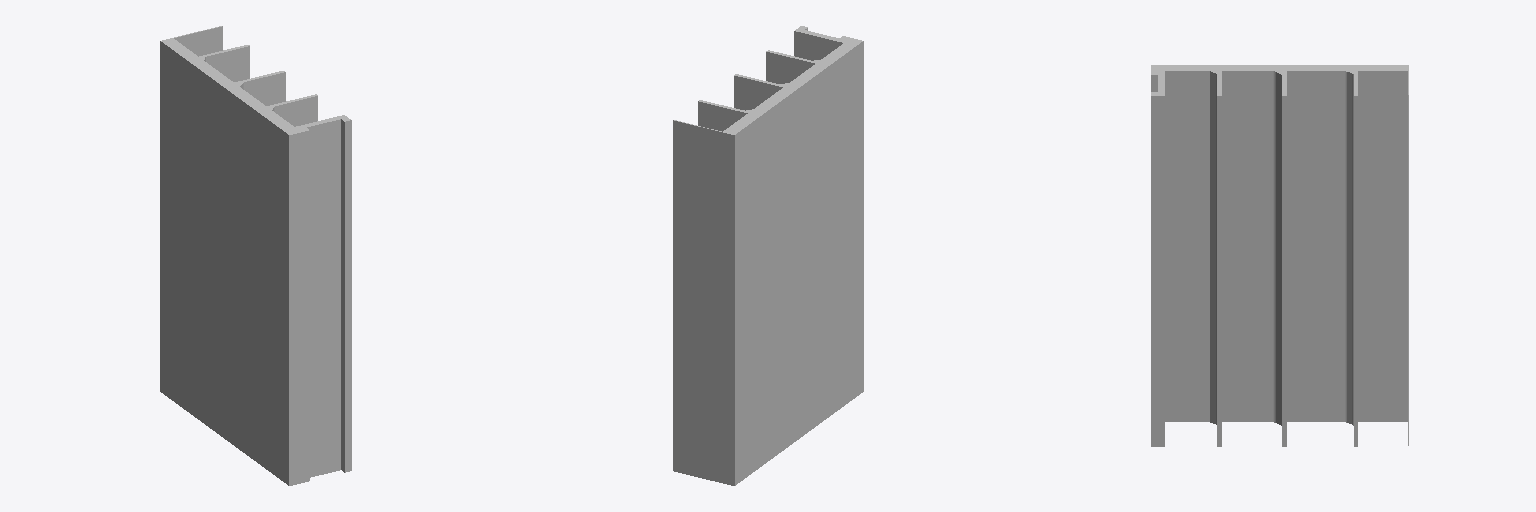
The model's file is supermarket_shelf.obj.
The picture shows the model from 3 angles: view 1: azimuth 30°, elevation 25°; view 2: azimuth 150°, elevation 25°; view 3: azimuth 270°, elevation 25°; orthographic projection.
Visible parts, largest first — view 1: Body1; view 2: Body1; view 3: Body1.
Boxes of the visible parts, <box> form: Body1: <box>160,26,351,485</box>; Body1: <box>673,26,863,485</box>; Body1: <box>1151,65,1408,446</box>.
Size of the model in its own units: 0.5 by 2.7 by 1.8.